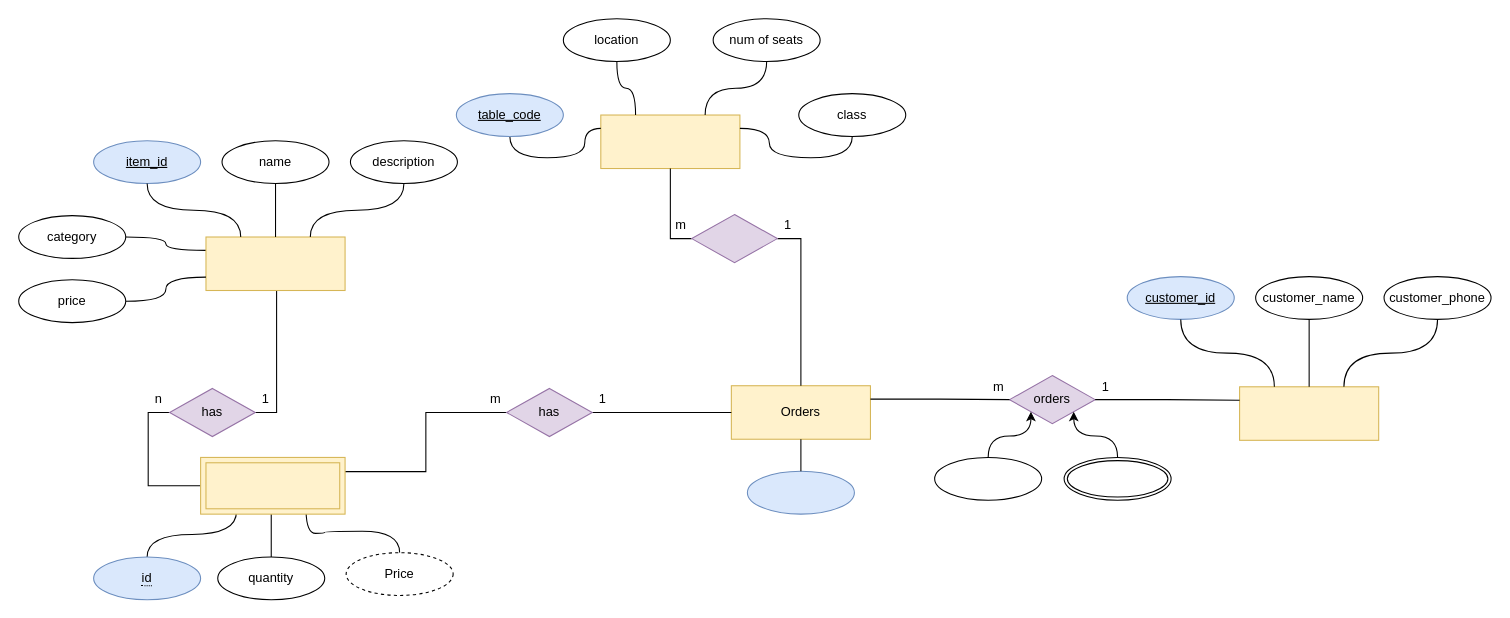
Image size: 1510x618. Some labels were removed from this diagram. The centre of each missing label's shape, as x and y in pixels:
"Customers" goes at (1309,413).
"Menu Items" goes at (275,263).
"on" goes at (734,238).
"Order Details" goes at (272,485).
"order_date" goes at (988,478).
"order_id" goes at (800,492).
"rate" goes at (1117,478).
"Tables" goes at (670,141).
